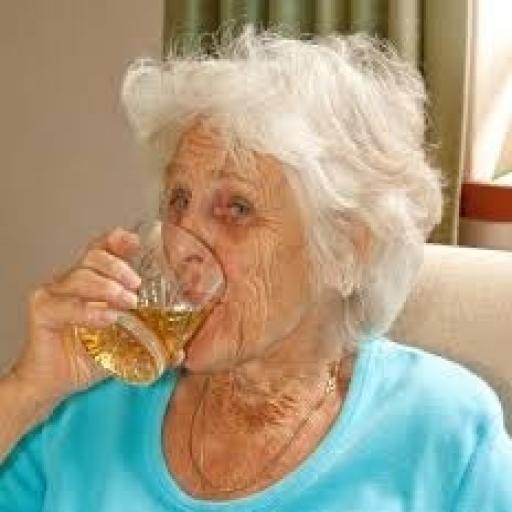drinking: (73, 217, 227, 387)
